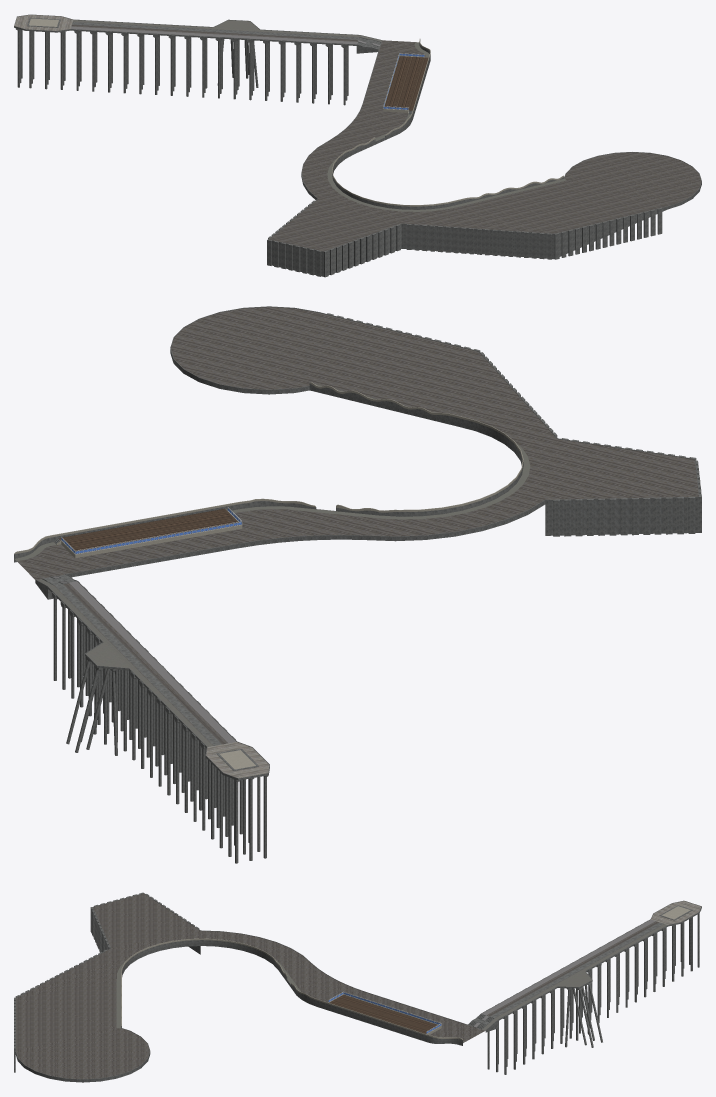
The model's file is Boardwalk and Cafe.dae.
3 views of the same model, one above another, from view 1: azimuth 30°, elevation 25°; view 2: azimuth 150°, elevation 25°; view 3: azimuth 270°, elevation 25° (orthographic). The views are drawn at different scales.
Parts seen in each view (by area): view 1: SketchUp (×8), Component_2; view 2: SketchUp (×9), Component_2 (×2); view 3: SketchUp (×9), Component_2.
Part boxes in pixels (x1,y1,x2,y2): SketchUp (×8): [14, 14, 701, 276]; Component_2: [384, 56, 428, 110]; SketchUp (×9): [14, 306, 699, 780]; Component_2 (×2): [56, 508, 242, 558]; SketchUp (×9): [15, 893, 701, 1082]; Component_2: [329, 995, 437, 1033].
Size of the model in its own units: 5664 by 8805 by 860.
